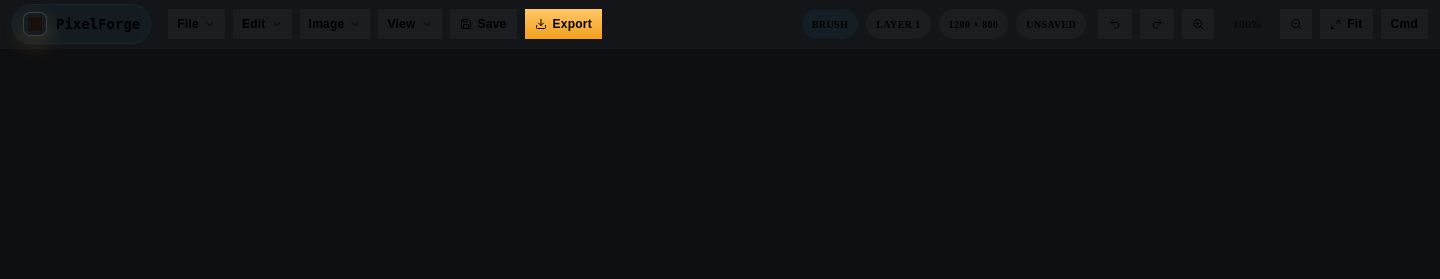
EditorMenu › disables deselect when no raster marquee is active
Click the button "Edit".
click(262, 24)  # box x1=233 y1=9 x2=292 y2=39
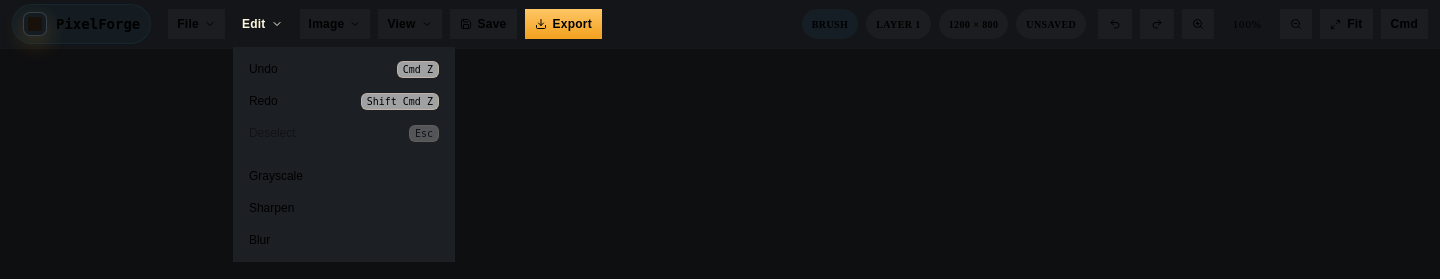
Now the menu item "Deselect Esc" is disabled, box x1=239 y1=117 x2=449 y2=149
